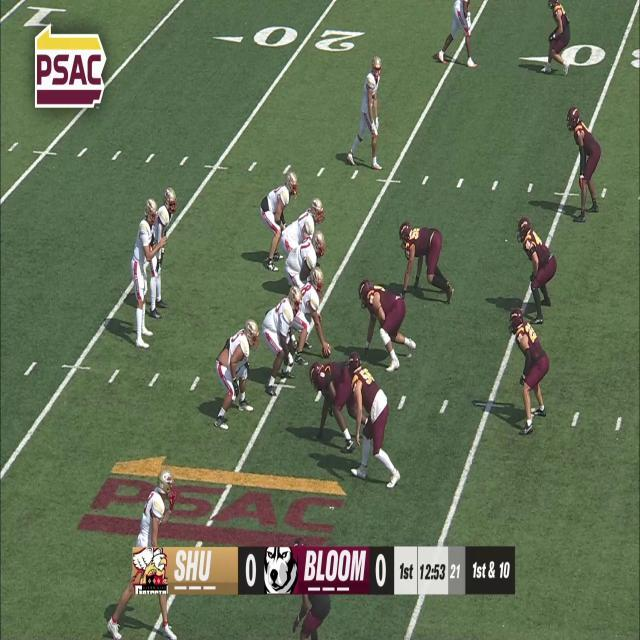football: (318, 341, 332, 358)
